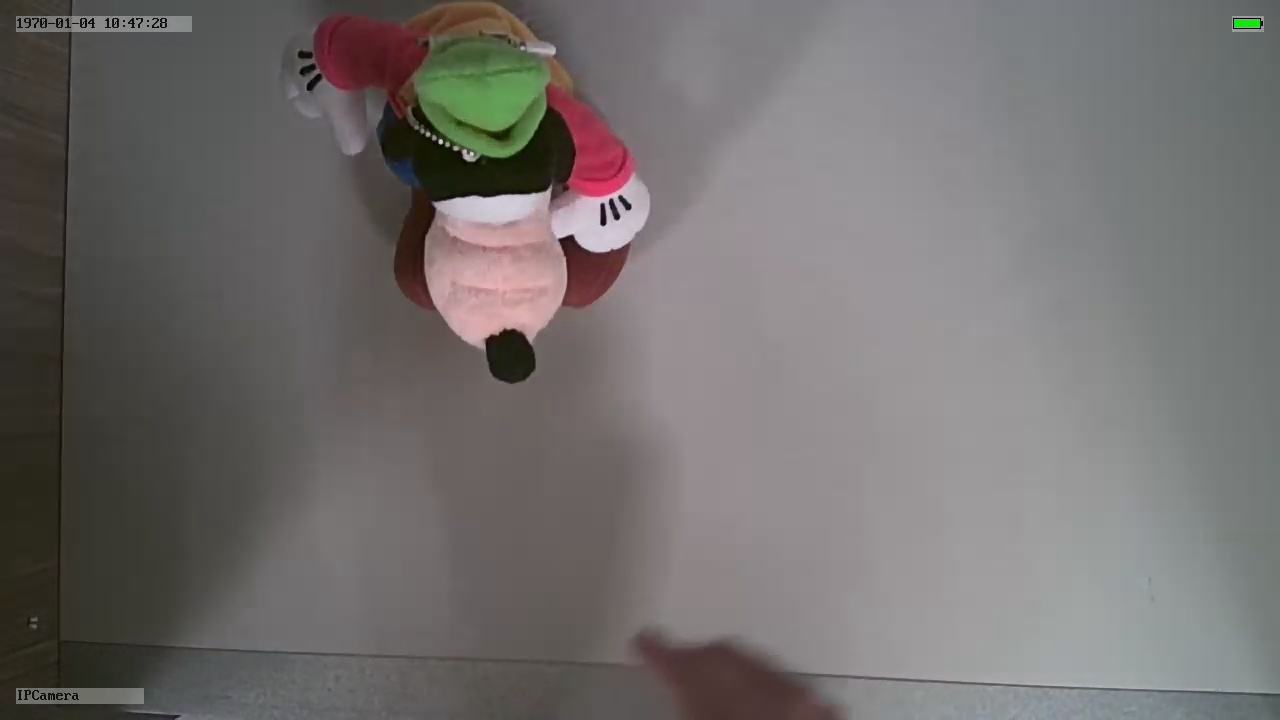goofy: (282, 9, 650, 382)
